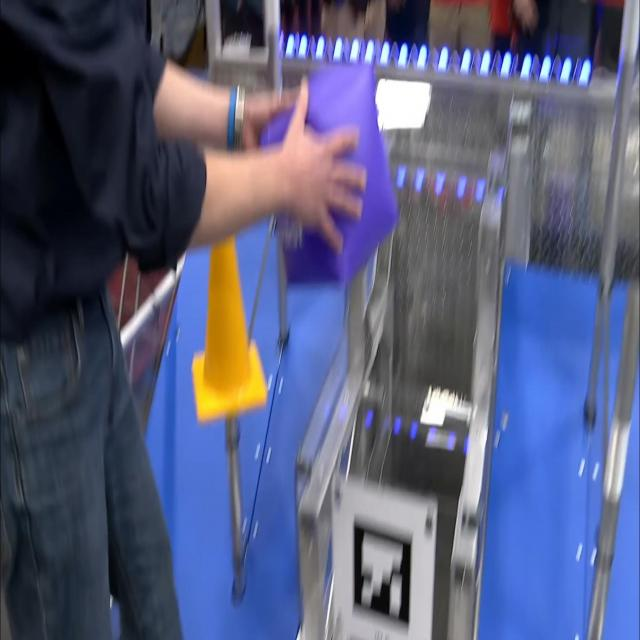frc_cone: (191, 237, 268, 424)
frc_cube: (264, 65, 396, 284)
